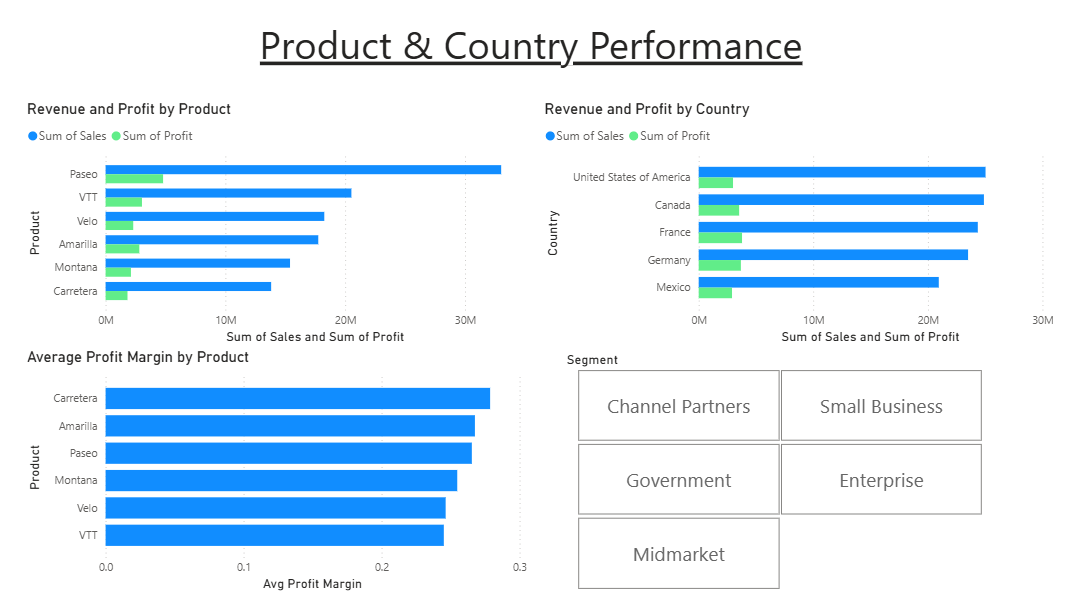

What the dashboard file says about the page in this screenshot:
{"tool":"powerbi","page":{"name":"Product & Country Performance","canvas":[1280,720],"ordinal":2},"visuals":[{"type":"clusteredBarChart","title":"Revenue and Profit by Product","fields":{"Category":["financial_cleaned.Product"],"Y":["Sum(financial_cleaned.Sales)","Sum(financial_cleaned.Profit)"]},"box":[65,142.5,575,275],"z":0},{"type":"clusteredBarChart","title":"Average Profit Margin by Product","fields":{"Category":["financial_cleaned.Product"],"Y":["financial_cleaned.Avg Profit Margin"]},"box":[65,417.5,565,275],"z":1000},{"type":"clusteredBarChart","title":"Revenue and Profit by Country","fields":{"Category":["financial_cleaned.Country"],"Y":["Sum(financial_cleaned.Sales)","Sum(financial_cleaned.Profit)"]},"box":[640,142.5,575,275],"z":2000},{"type":"slicer","fields":{"Values":["financial_cleaned.Segment"]},"box":[655.9,417.7,498.3,274.8],"z":3000},{"type":"textbox","box":[324,46,662,96],"z":4000}]}

Visuals, with their boxes in screenshot pixels (x1, y1, x2, y2), scaled from the page's 1280x720 canvas onto the 1073x604 screenshot:
"Revenue and Profit by Product" clusteredBarChart: box(54, 120, 536, 350)
"Average Profit Margin by Product" clusteredBarChart: box(54, 350, 528, 581)
"Revenue and Profit by Country" clusteredBarChart: box(536, 120, 1019, 350)
slicer - financial_cleaned.Segment: box(550, 350, 968, 581)
textbox: box(272, 39, 827, 119)
